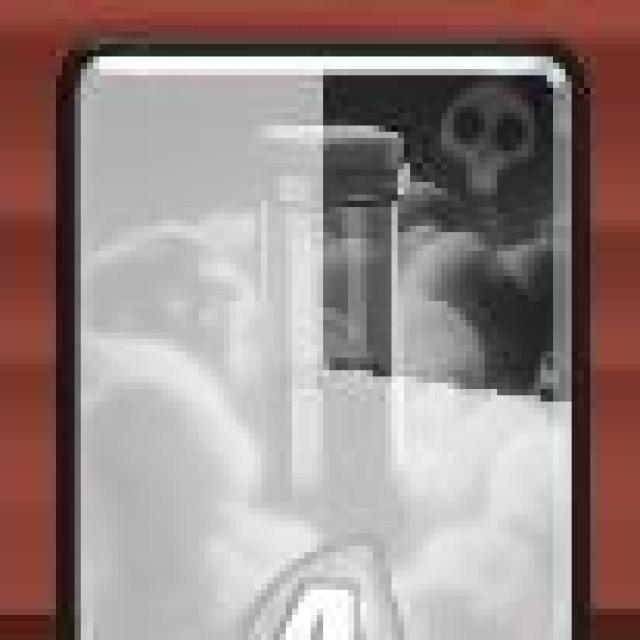Poison: (68, 52, 592, 640)
